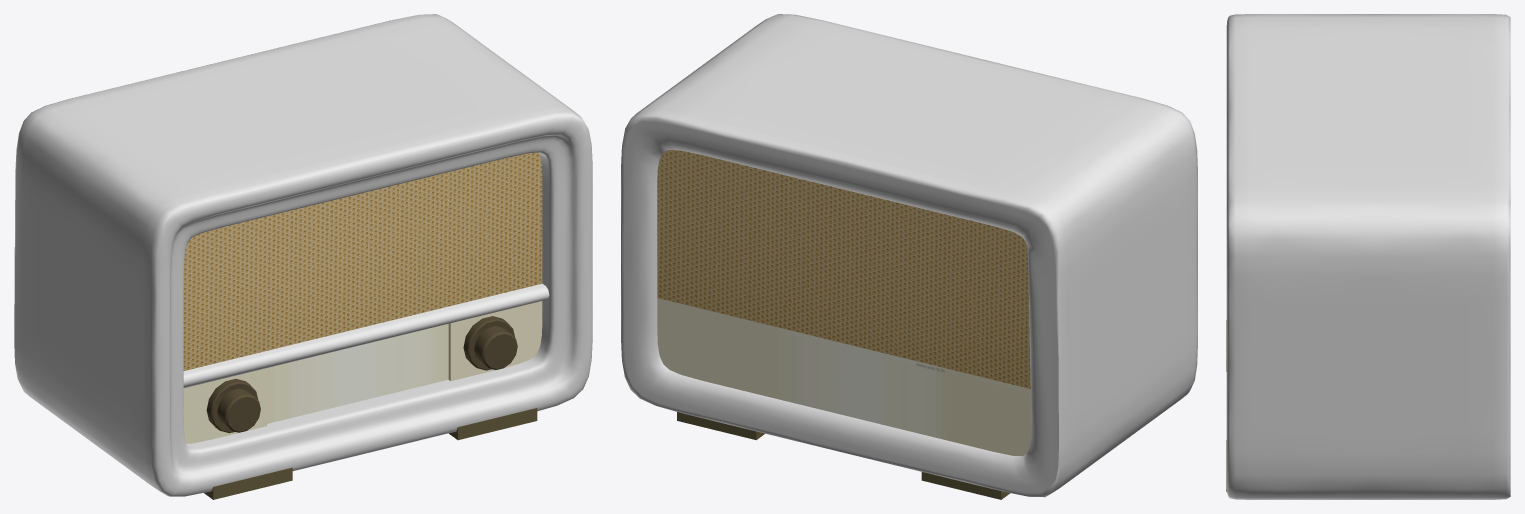
File: radio.fbx
The picture shows the model from 3 angles, left to right: view 1: azimuth 30°, elevation 25°; view 2: azimuth 150°, elevation 25°; view 3: azimuth 270°, elevation 25°; orthographic projection.
Visible parts, largest first — view 1: Würfel, Würfel_2, Würfel_1, Zylinder, Zylinder_2, Zylinder_3, fuss_rechts, fuss_links, Zylinder_1, Zylinder_4; view 2: Würfel, Würfel_2, Würfel_1, fuss_links, fuss_rechts; view 3: Würfel.
Part boxes in pixels (<box>): Würfel: <box>14,14,592,496</box>; Würfel_2: <box>183,152,542,370</box>; Würfel_1: <box>183,301,542,443</box>; Zylinder: <box>183,283,549,388</box>; Zylinder_2: <box>217,388,260,432</box>; Zylinder_3: <box>474,326,517,369</box>; fuss_rechts: <box>449,408,537,440</box>; fuss_links: <box>204,467,292,499</box>; Zylinder_1: <box>206,378,258,433</box>; Zylinder_4: <box>463,316,515,370</box>; Würfel: <box>621,14,1197,497</box>; Würfel_2: <box>657,150,1030,388</box>; Würfel_1: <box>657,298,1030,456</box>; fuss_links: <box>921,472,1010,499</box>; fuss_rechts: <box>677,412,764,440</box>; Würfel: <box>1226,14,1510,499</box>.
Bounding box in the file's own units: 72 × 47 × 40.01.
4 materials, 2 textured.
